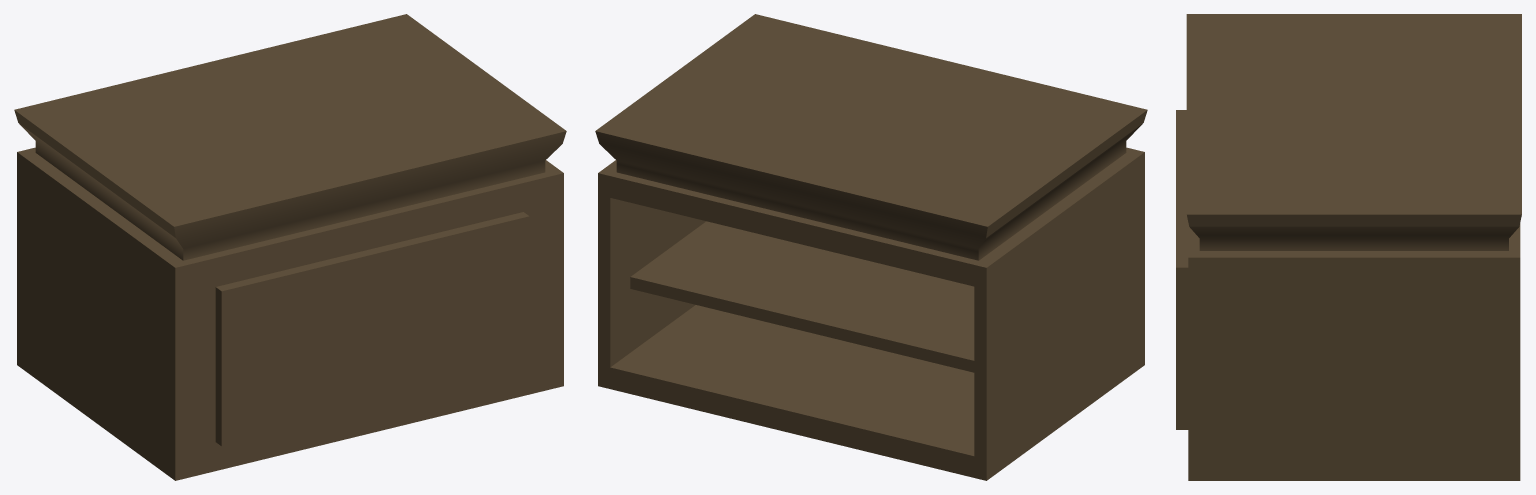
File: DeskB.fbx
3 views of the same model, side by side, from view 1: azimuth 30°, elevation 25°; view 2: azimuth 150°, elevation 25°; view 3: azimuth 270°, elevation 25° (orthographic). The views are drawn at different scales.
Visible parts, largest first — view 1: DeskB; view 2: DeskB; view 3: DeskB.
Boxes of the visible parts, <box> form: DeskB: <box>14,14,566,480</box>; DeskB: <box>595,14,1147,480</box>; DeskB: <box>1176,14,1521,480</box>.
Size of the model in its own units: 191 by 119 by 139.
